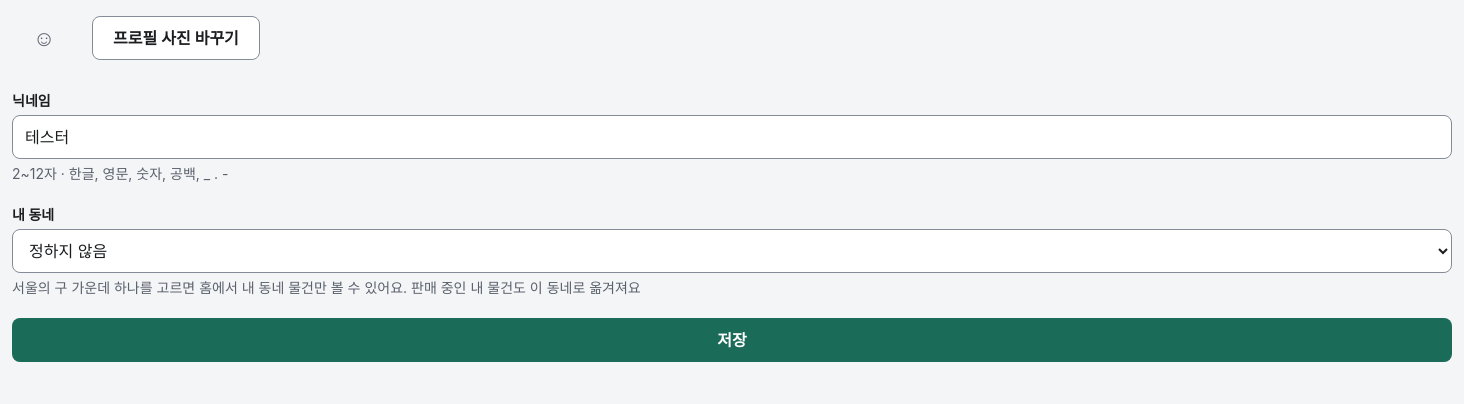
프로필 수정 › [AC-MP-06] 규칙에 어긋나면 보내지 않고, 남이 쓰는 닉네임이면 칸 아래에 알린다
The width and height of the screenshot is (1464, 404).
Replace the text in the field labelled "닉네임" with "가" at (732, 137), box [12, 115, 1452, 159]
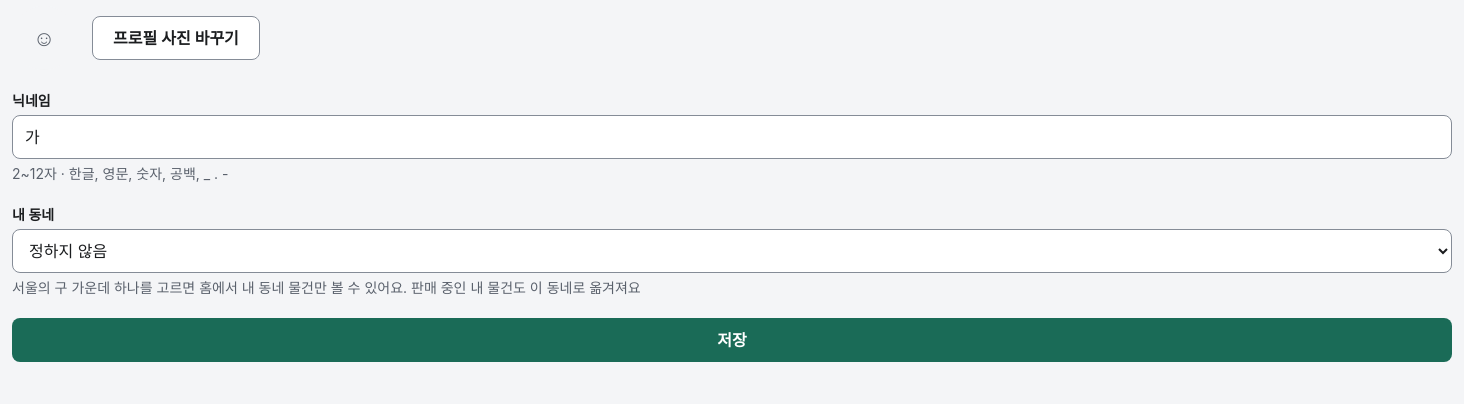
Click the button "저장" at (732, 340), box [12, 318, 1452, 362]
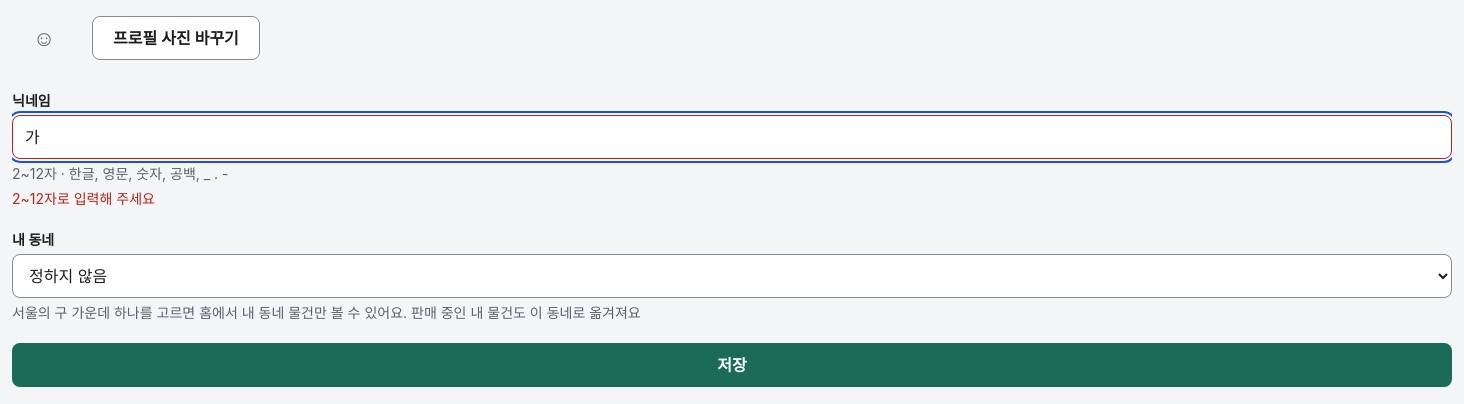
Expected: the text "2~12자로 입력해 주세요" is shown, [12, 190, 155, 207]
Replace the text in the field labelled "닉네임" with "김당근" at (732, 137), box [12, 115, 1452, 159]
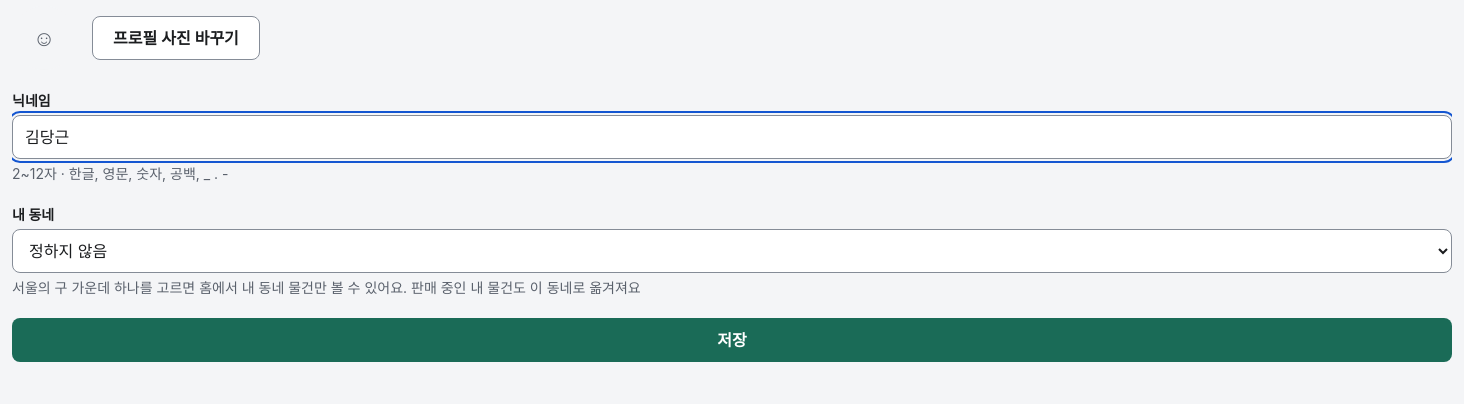
Click the button "저장" at (732, 340), box [12, 318, 1452, 362]
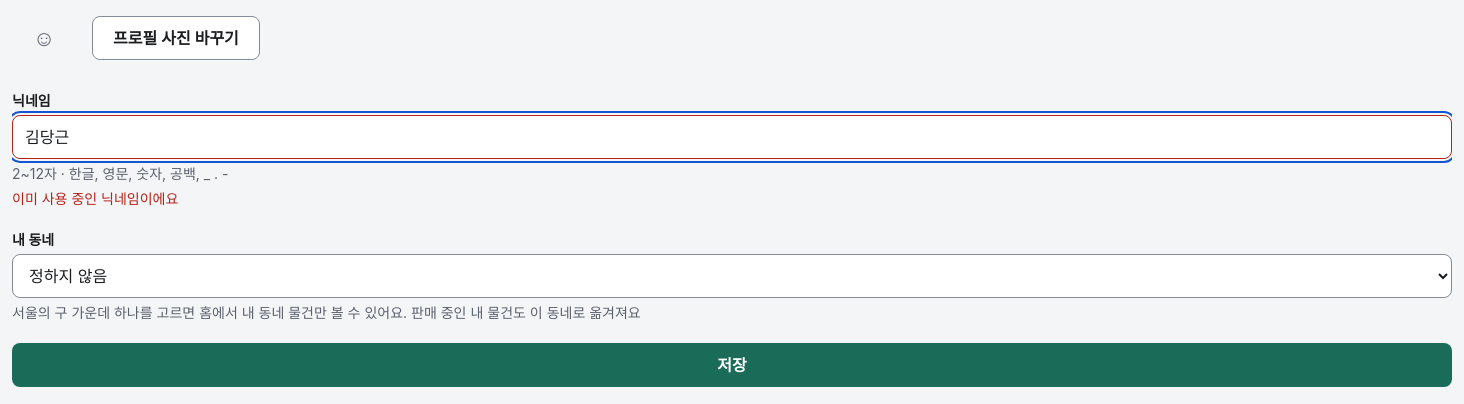
Expected: the text "이미 사용 중인 닉네임이에요" is shown, [12, 190, 178, 207]
